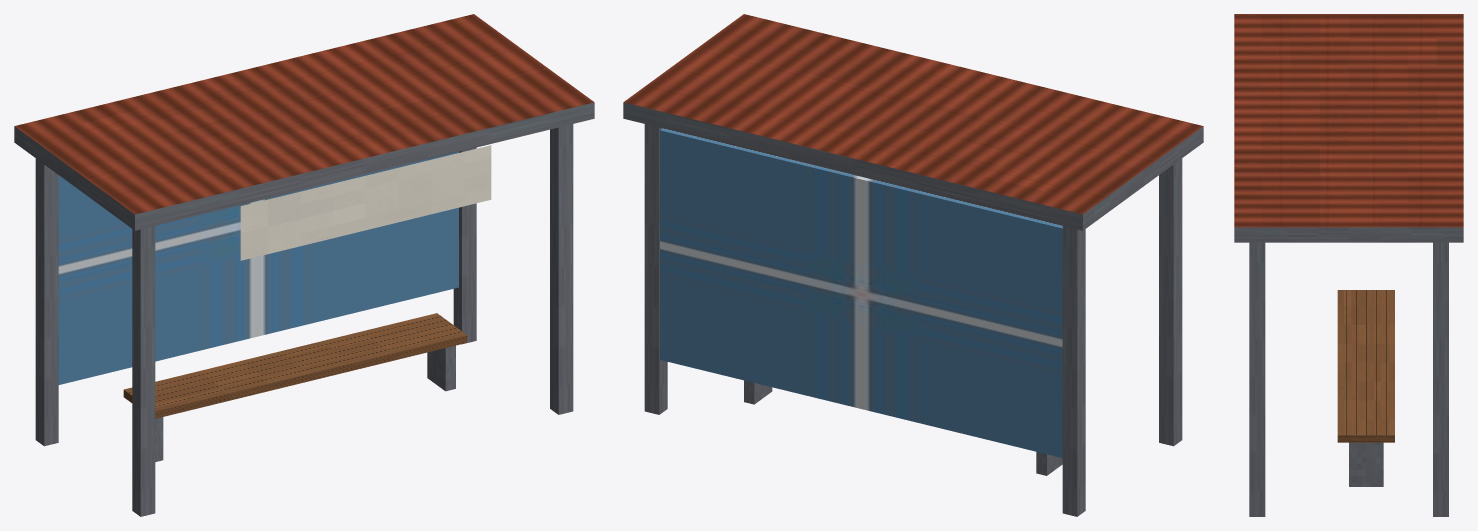
The model's file is busstop-cream.glb.
3 renders of one model, left to right at view 1: azimuth 30°, elevation 25°; view 2: azimuth 150°, elevation 25°; view 3: azimuth 270°, elevation 25°, orthographic. The views are drawn at different scales.
Visible parts, largest first — view 1: busstop-cream, sign_1; view 2: busstop-cream; view 3: busstop-cream.
Boxes of the visible parts, x1,y1,x2,y2 form: busstop-cream: (14,14,594,516); sign_1: (240,145,491,260); busstop-cream: (623,14,1203,516); busstop-cream: (1234,14,1463,516).
Bounding box in the file's own units: 4.4 × 2.85 × 2.02.
1 material, 1 textured.
